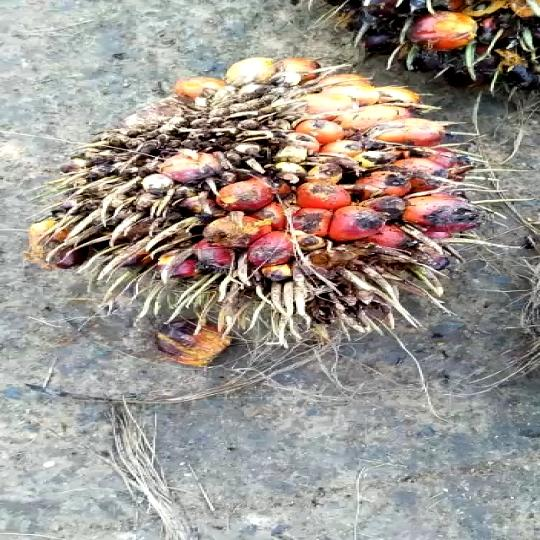masak: (47, 53, 491, 361)
